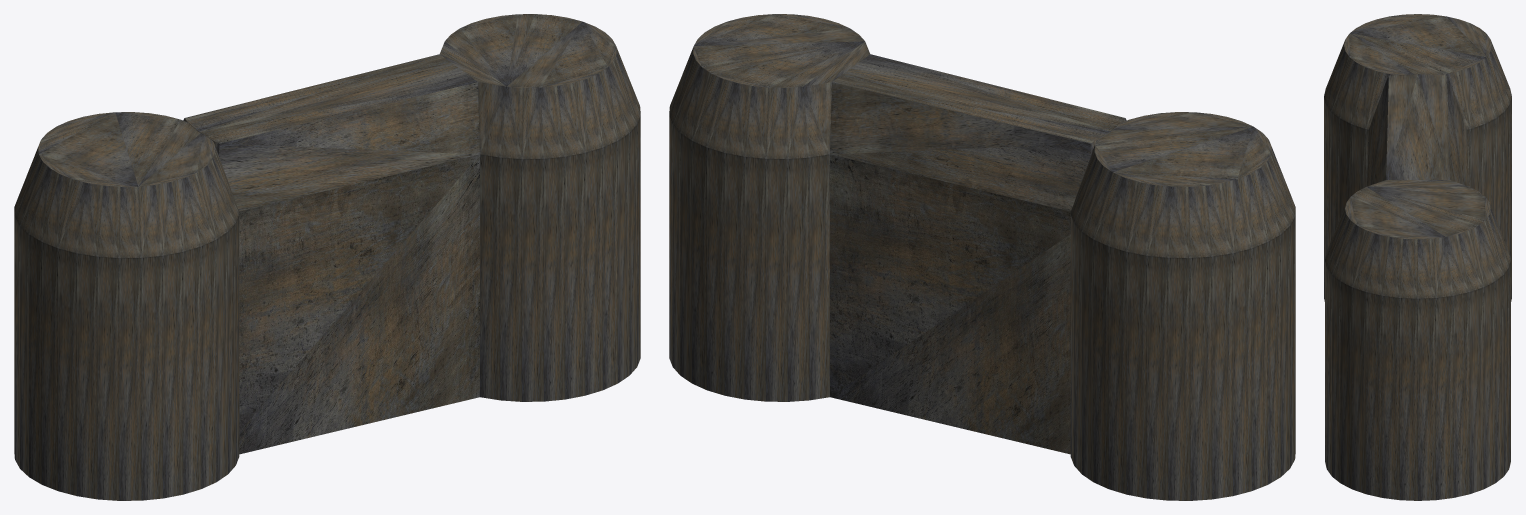
The model's file is lanes3.obj.
The picture shows the model from 3 angles, left to right: view 1: azimuth 30°, elevation 25°; view 2: azimuth 150°, elevation 25°; view 3: azimuth 270°, elevation 25°; orthographic projection. The views are drawn at different scales.
Visible parts, largest first — view 1: Cylinder.002_Cylinder.002; view 2: Cylinder.002_Cylinder.002; view 3: Cylinder.002_Cylinder.002.
Part boxes in pixels (bbox=[...]): Cylinder.002_Cylinder.002: bbox=[14, 14, 640, 500]; Cylinder.002_Cylinder.002: bbox=[669, 14, 1295, 500]; Cylinder.002_Cylinder.002: bbox=[1324, 14, 1511, 500].
Bounding box in the file's own units: 2.19 × 1.07 × 0.7172.
1 material, 1 textured.
